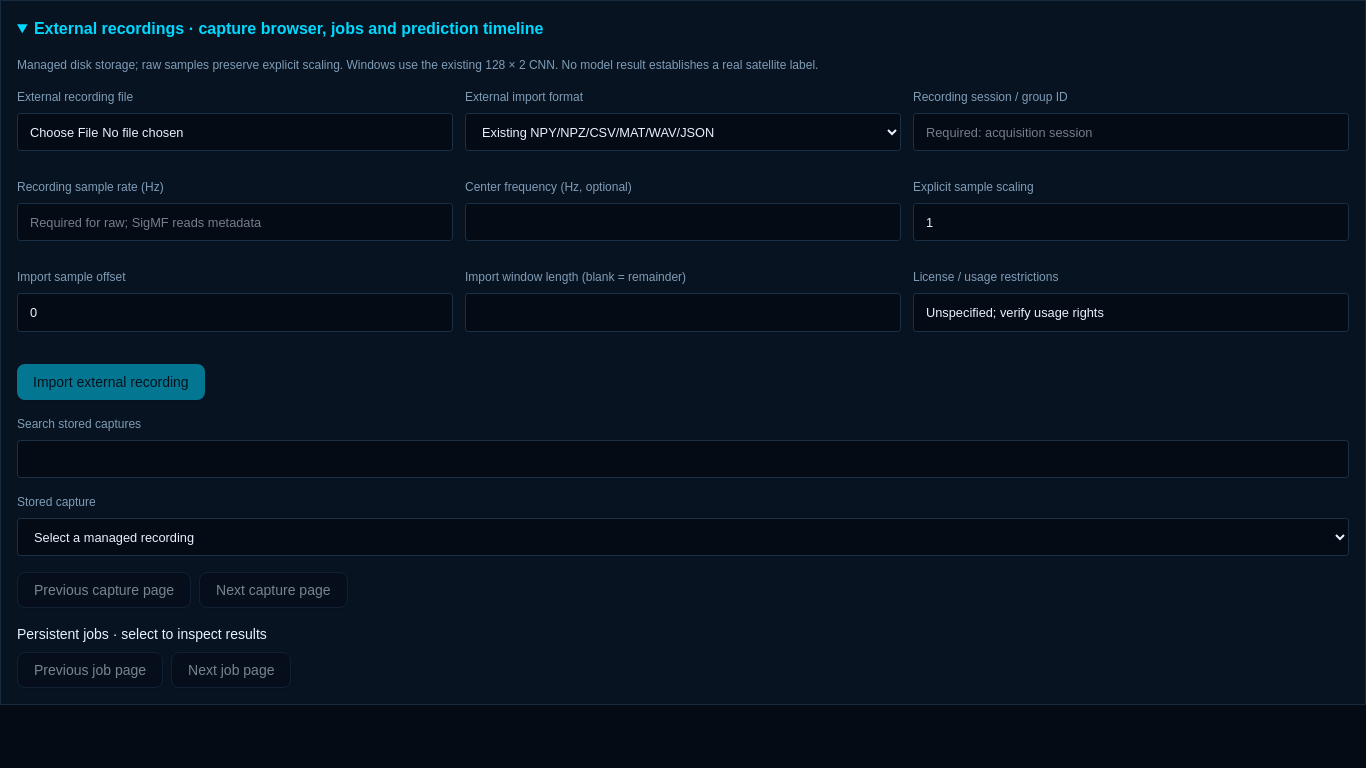
it: Phase2 operational controls › uploads into a persistent job and selects the capture only after completion
Earlier steps of the test are not shown.
Type "session-C" into the field labelled "Recording session / group ID" at (1131, 132), box [913,113,1349,151]
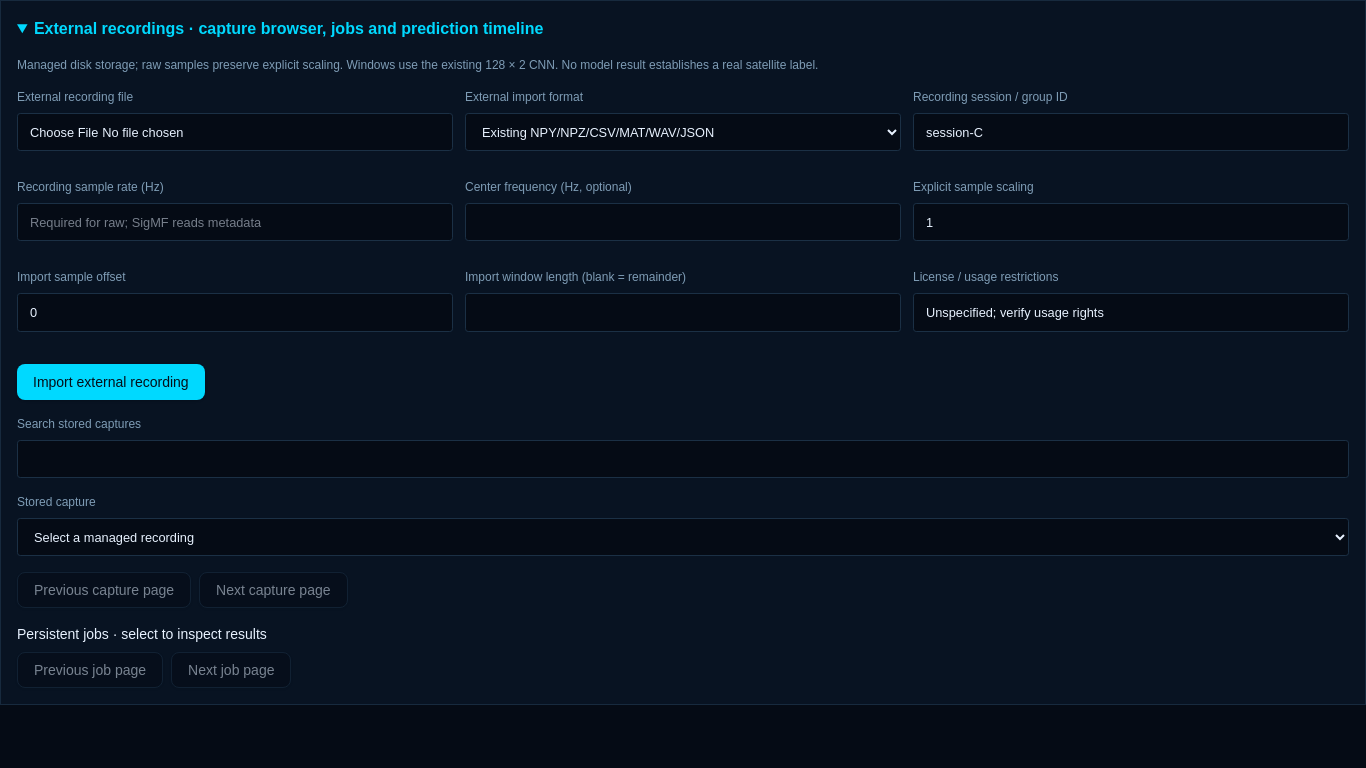
Click the button "Import external recording" at (111, 382), box [17,364,205,400]
(page scrolled)
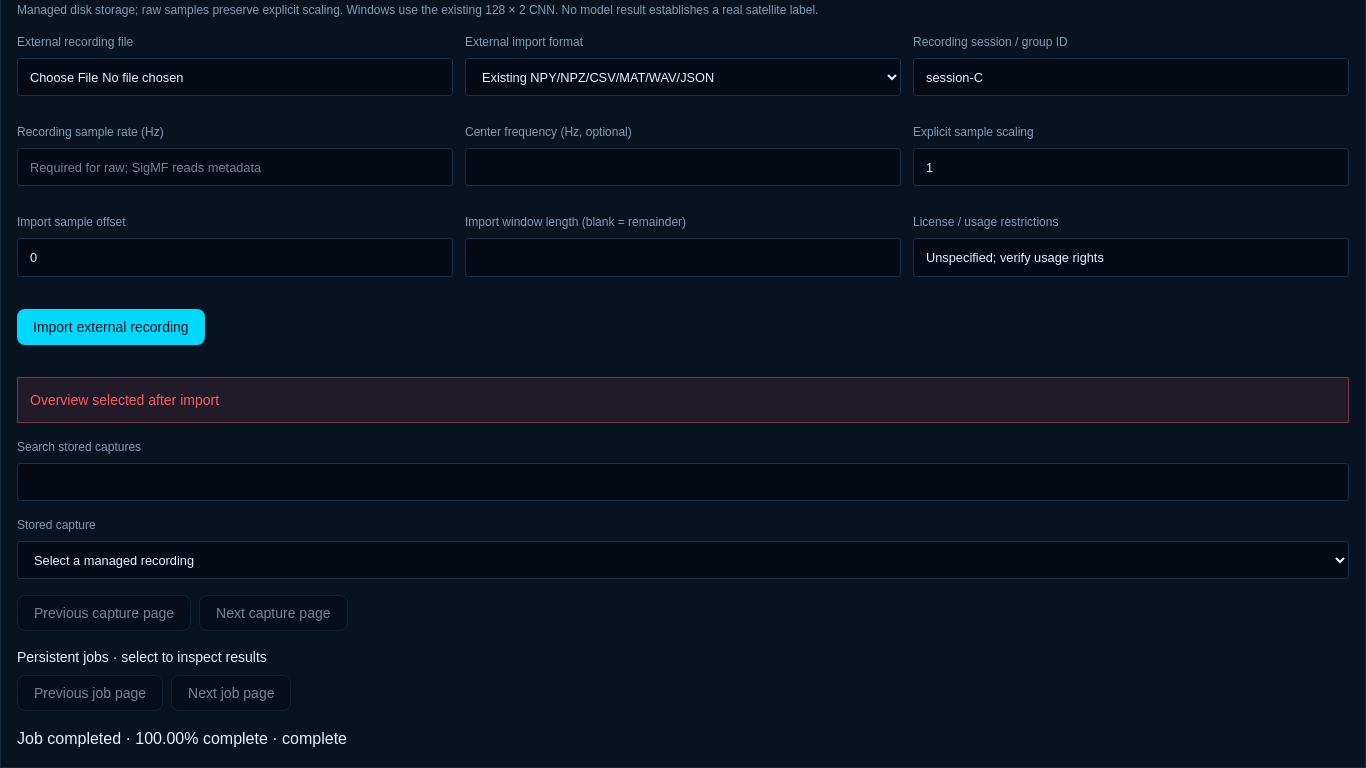
Check: the text "Job completed · 100.00% complete · complete" is shown, box [17,730,347,747]
